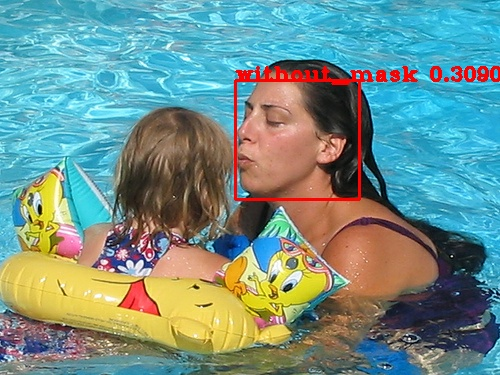without_mask: (236, 64, 365, 214)
